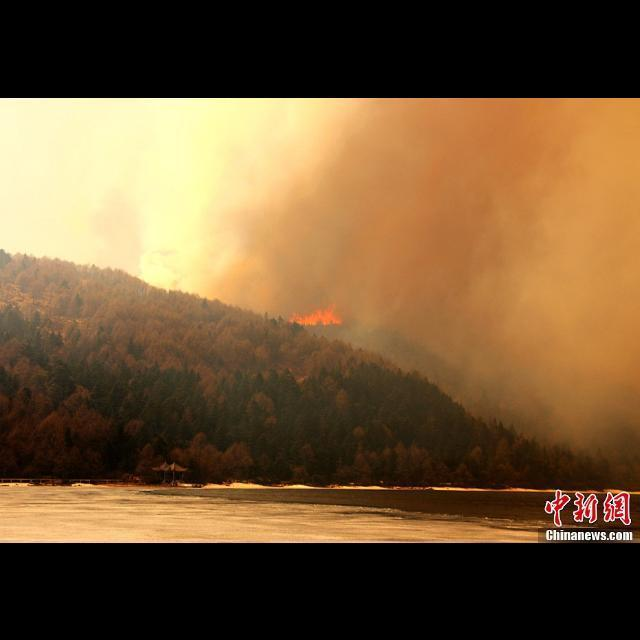Fire: (286, 302, 342, 324)
Smoke: (210, 98, 640, 464)
